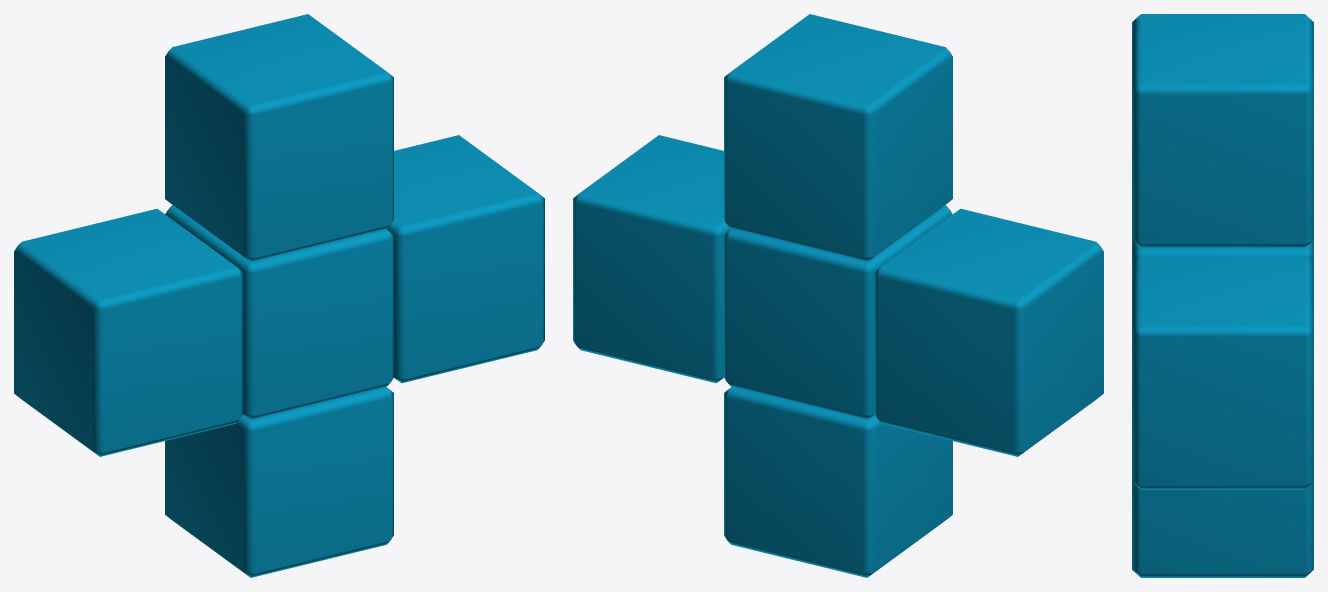
Rendered from FinOcean1.fbx.
3 views of the same model, side by side, from view 1: azimuth 30°, elevation 25°; view 2: azimuth 150°, elevation 25°; view 3: azimuth 270°, elevation 25° (orthographic). The views are drawn at different scales.
Parts seen in each view (by area): view 1: geo1; view 2: geo1; view 3: geo1.
Boxes of the visible parts, left/top/right/bottom form: geo1: left=14, top=14, right=544, bottom=577; geo1: left=573, top=14, right=1103, bottom=577; geo1: left=1132, top=14, right=1313, bottom=577.
Size of the model in its own units: 3 by 3 by 1.
